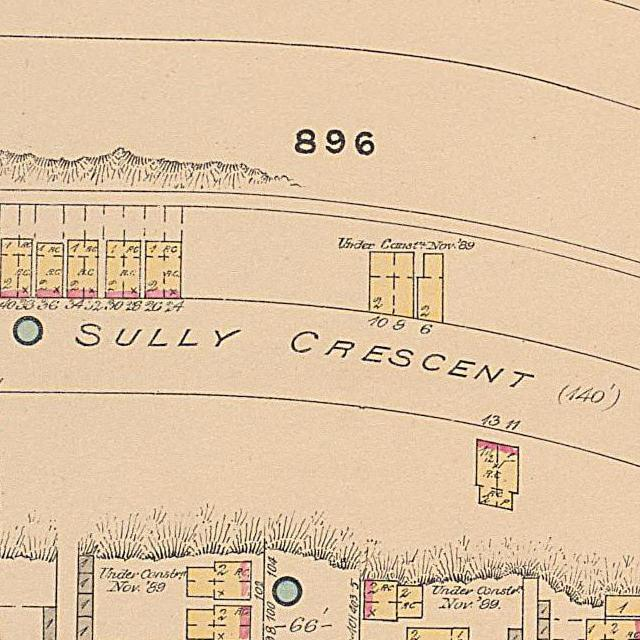building-footprints: (477, 439, 518, 510), (370, 252, 414, 318), (187, 562, 251, 600), (364, 581, 422, 620), (187, 606, 250, 640), (145, 241, 181, 299), (106, 241, 140, 298), (0, 239, 32, 297), (67, 240, 98, 298), (418, 254, 443, 323), (36, 243, 64, 297), (587, 619, 640, 640), (407, 628, 469, 640), (605, 596, 640, 617), (44, 607, 56, 640), (77, 593, 93, 617), (77, 617, 93, 640), (78, 573, 93, 594), (78, 555, 93, 573), (538, 618, 549, 639), (538, 601, 549, 619), (509, 629, 523, 640)
